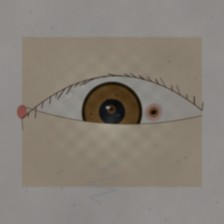foreign_body_visible: (100, 101, 122, 118)
